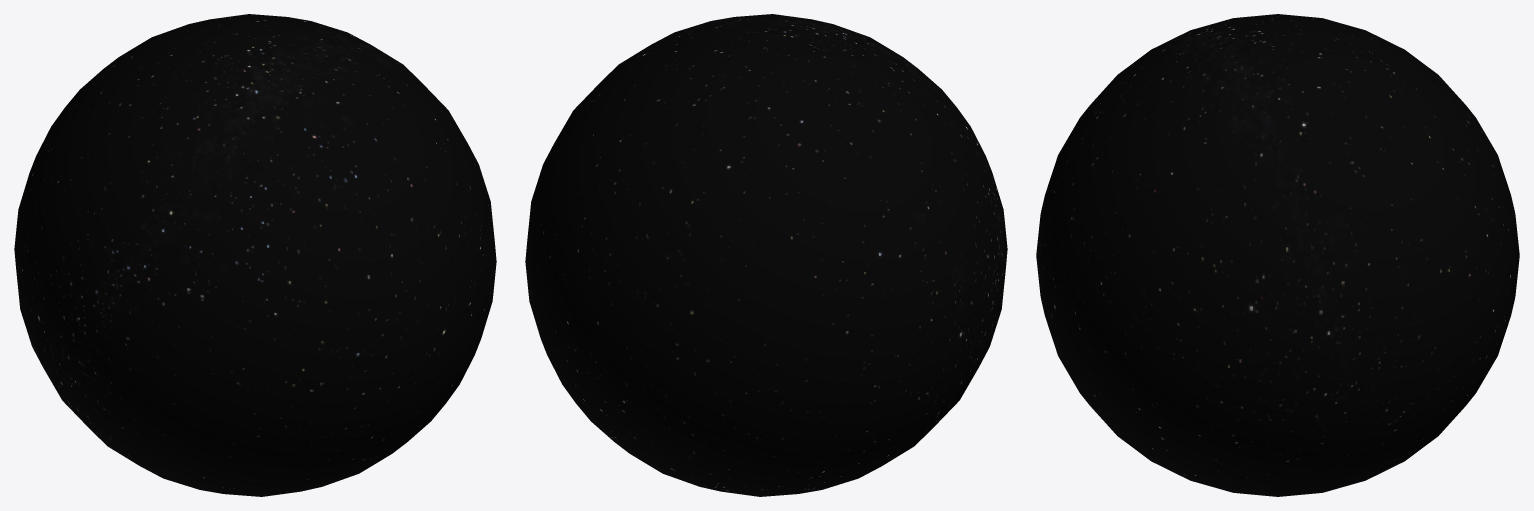
Rendered from Skybox.obj.
3 views of the same model, side by side, from view 1: azimuth 30°, elevation 25°; view 2: azimuth 150°, elevation 25°; view 3: azimuth 270°, elevation 25° (orthographic).
Visible parts, largest first — view 1: Skybox; view 2: Skybox; view 3: Skybox.
Boxes of the visible parts, x1=… form: Skybox: x1=14, y1=14, x2=496, y2=496; Skybox: x1=525, y1=14, x2=1007, y2=496; Skybox: x1=1036, y1=14, x2=1519, y2=496.
Bounding box in the file's own units: 1522 × 1522 × 1522.
